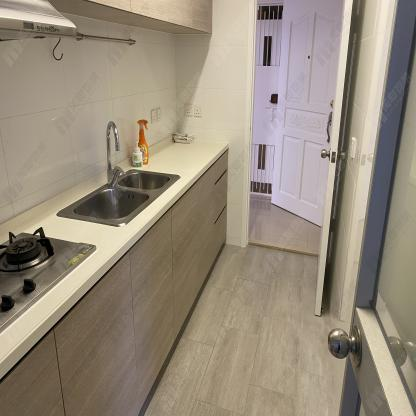Cupboard: (0, 147, 228, 416)
Faucet: (99, 112, 121, 190)
Sink: (56, 166, 183, 229)
Stove: (0, 219, 97, 334)
